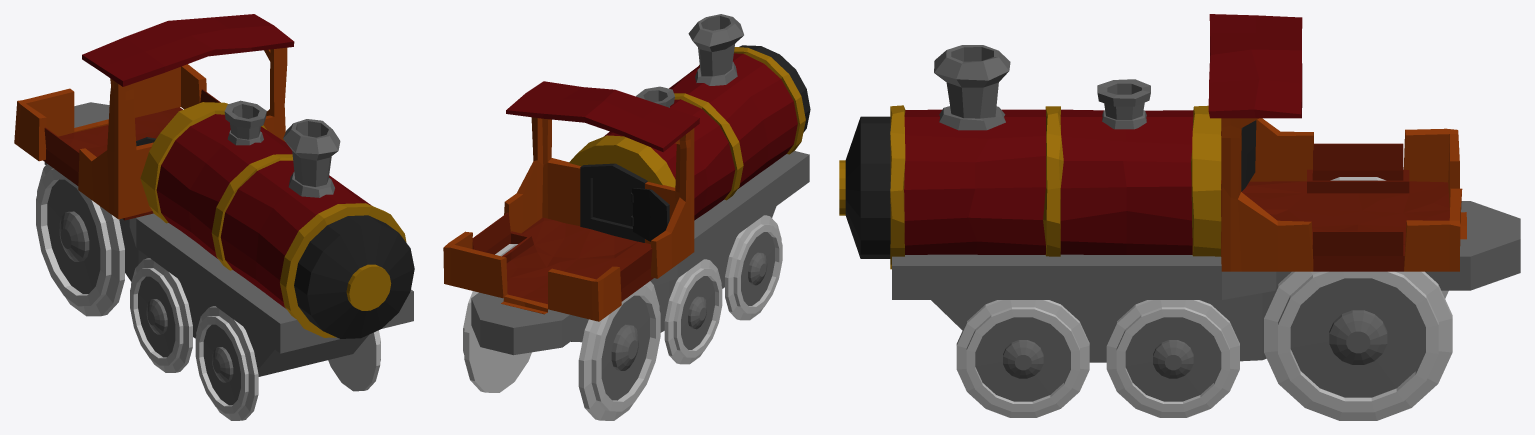
File: ToyTrain.fbx
3 renders of one model, left to right at view 1: azimuth 30°, elevation 25°; view 2: azimuth 150°, elevation 25°; view 3: azimuth 270°, elevation 25°, orthographic. The views are drawn at different scales.
Visible parts, largest first — view 1: Wheel2; view 2: Wheel2; view 3: Wheel2.
Part boxes in pixels (<box>): Wheel2: <box>14,14,414,420</box>; Wheel2: <box>443,14,810,420</box>; Wheel2: <box>839,14,1520,420</box>.
Bounding box in the file's own units: 270 × 440 × 810.
